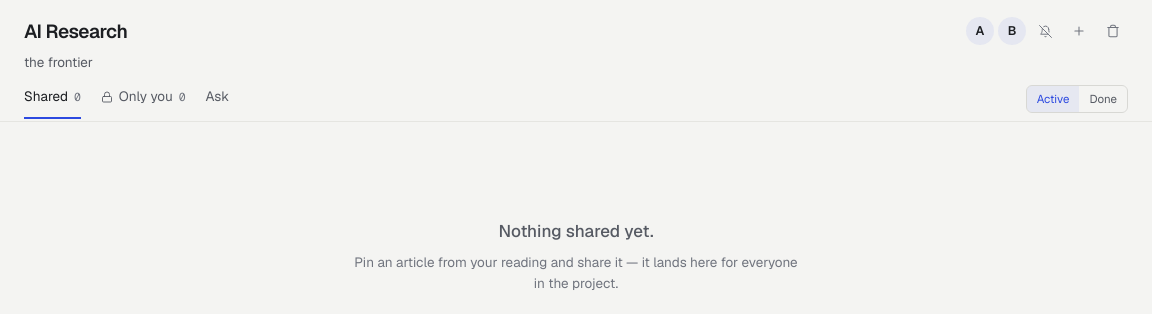
Test case: ProjectPage › cancel disarms the delete confirm
Click the button titled "Delete project" at x=1113, y=31, box [1098,16,1128,46]
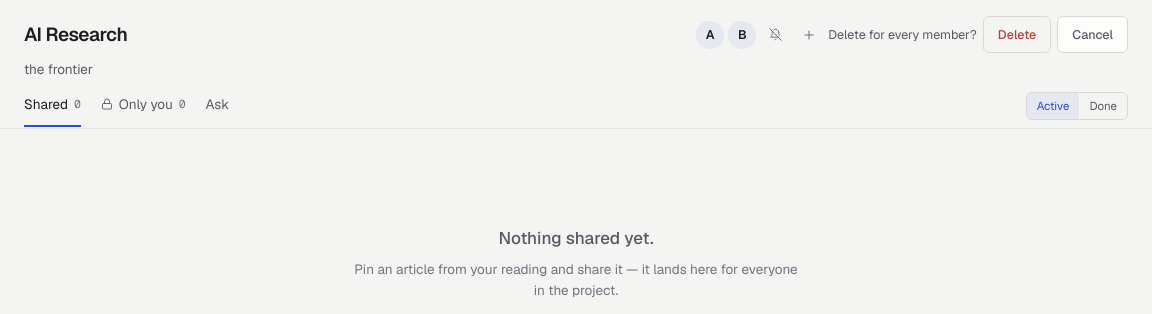
Click the button "Cancel" at x=1093, y=35, box [1057,16,1128,53]
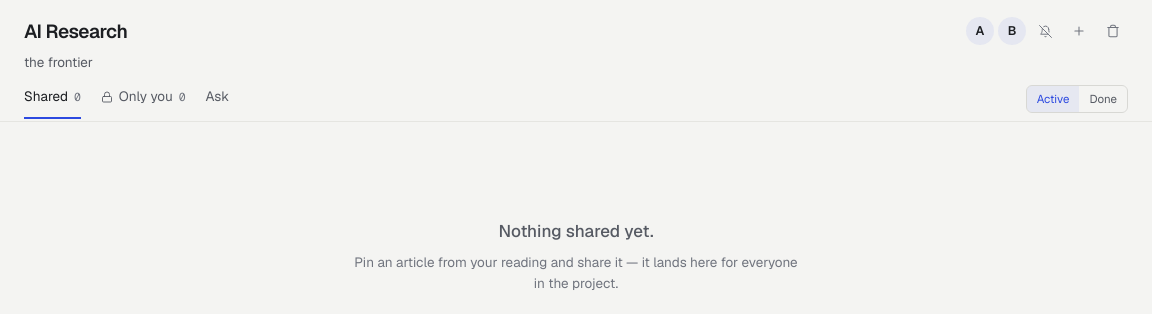
Check: the button titled "Delete project" is shown, box [1098,16,1128,46]
